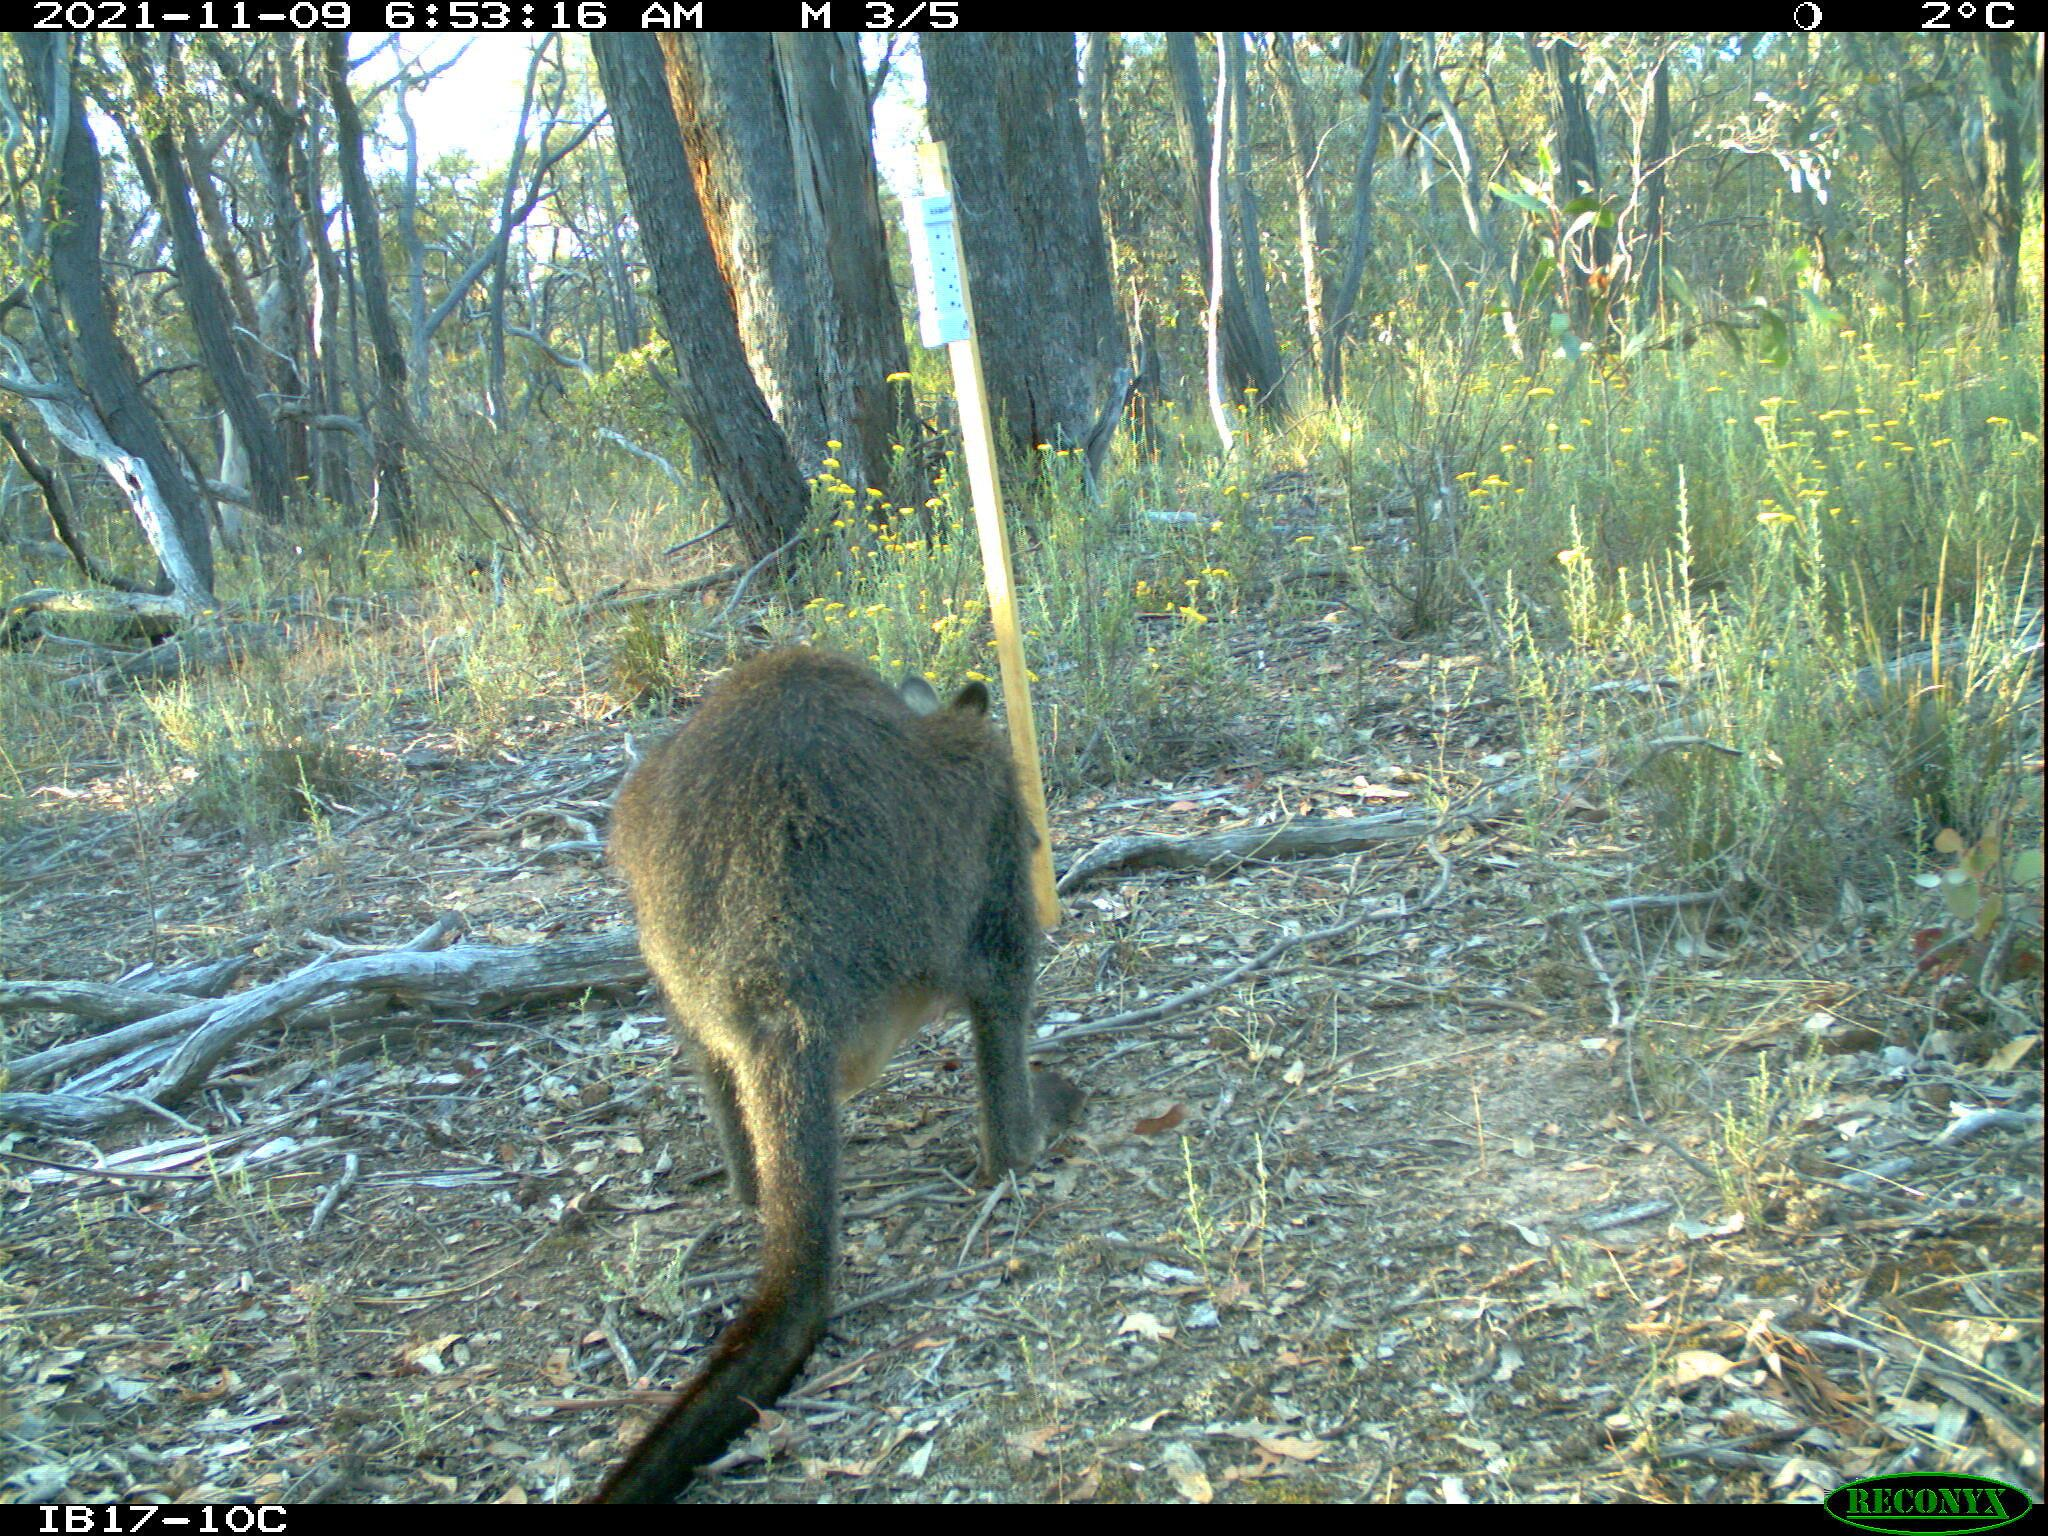Swamp wallaby: (543, 641, 1089, 1501)
